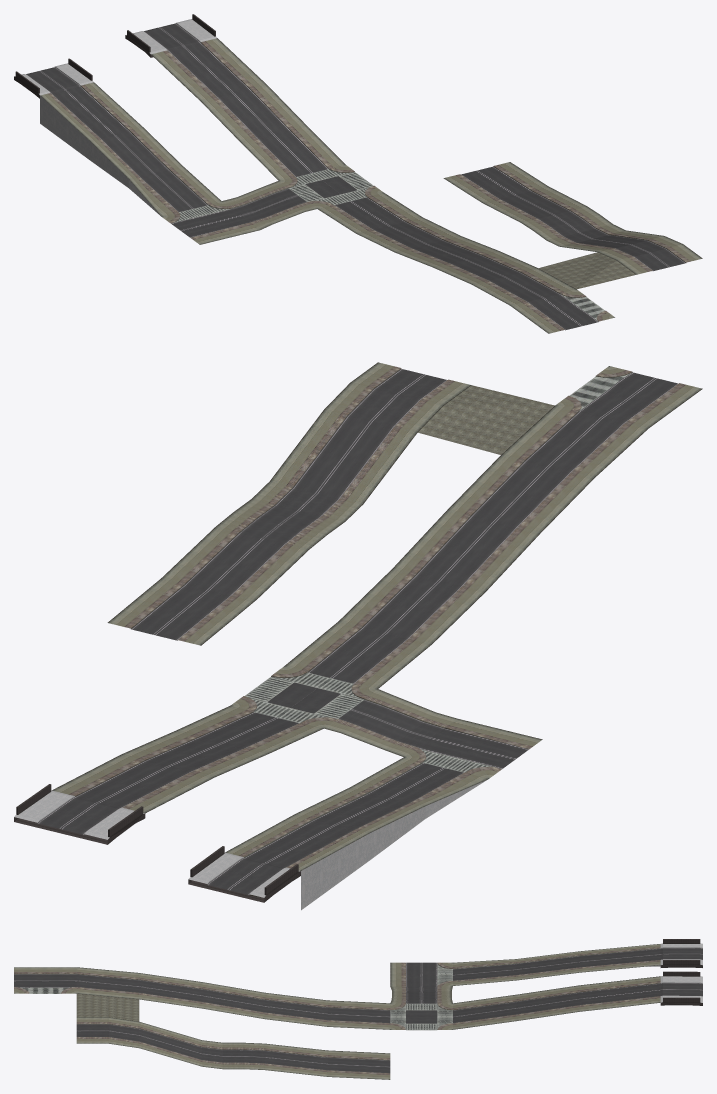
File: roadssfse09.obj
The picture shows the model from 3 angles, top to bottom: view 1: azimuth 30°, elevation 25°; view 2: azimuth 150°, elevation 25°; view 3: azimuth 270°, elevation 25°; orthographic projection. The views are drawn at different scales.
Parts seen in each view (by area): view 1: roadsSFSE09; view 2: roadsSFSE09; view 3: roadsSFSE09.
Boxes of the visible parts, left/top/right/bottom form: roadsSFSE09: left=14, top=14, right=702, bottom=333; roadsSFSE09: left=14, top=362, right=702, bottom=910; roadsSFSE09: left=14, top=939, right=702, bottom=1079.
Bounding box in the file's own units: 92.9 × 15.43 × 220.
Materials: 7 (7 with a texture image).
